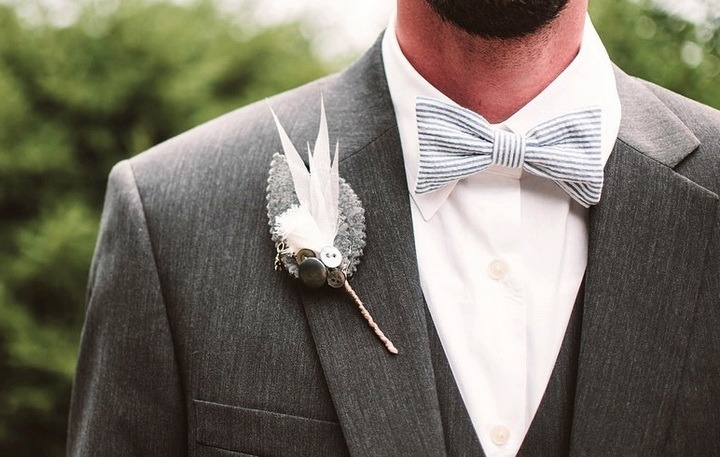bow: (407, 92, 611, 220)
